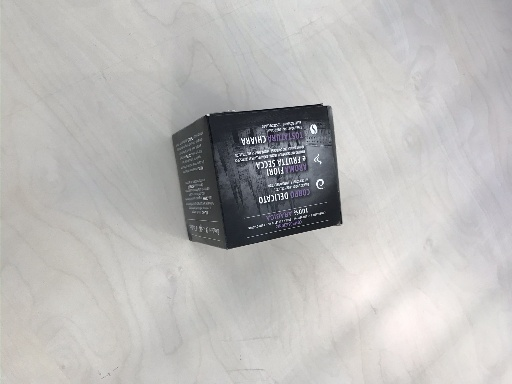Caffe: (172, 105, 345, 251)
